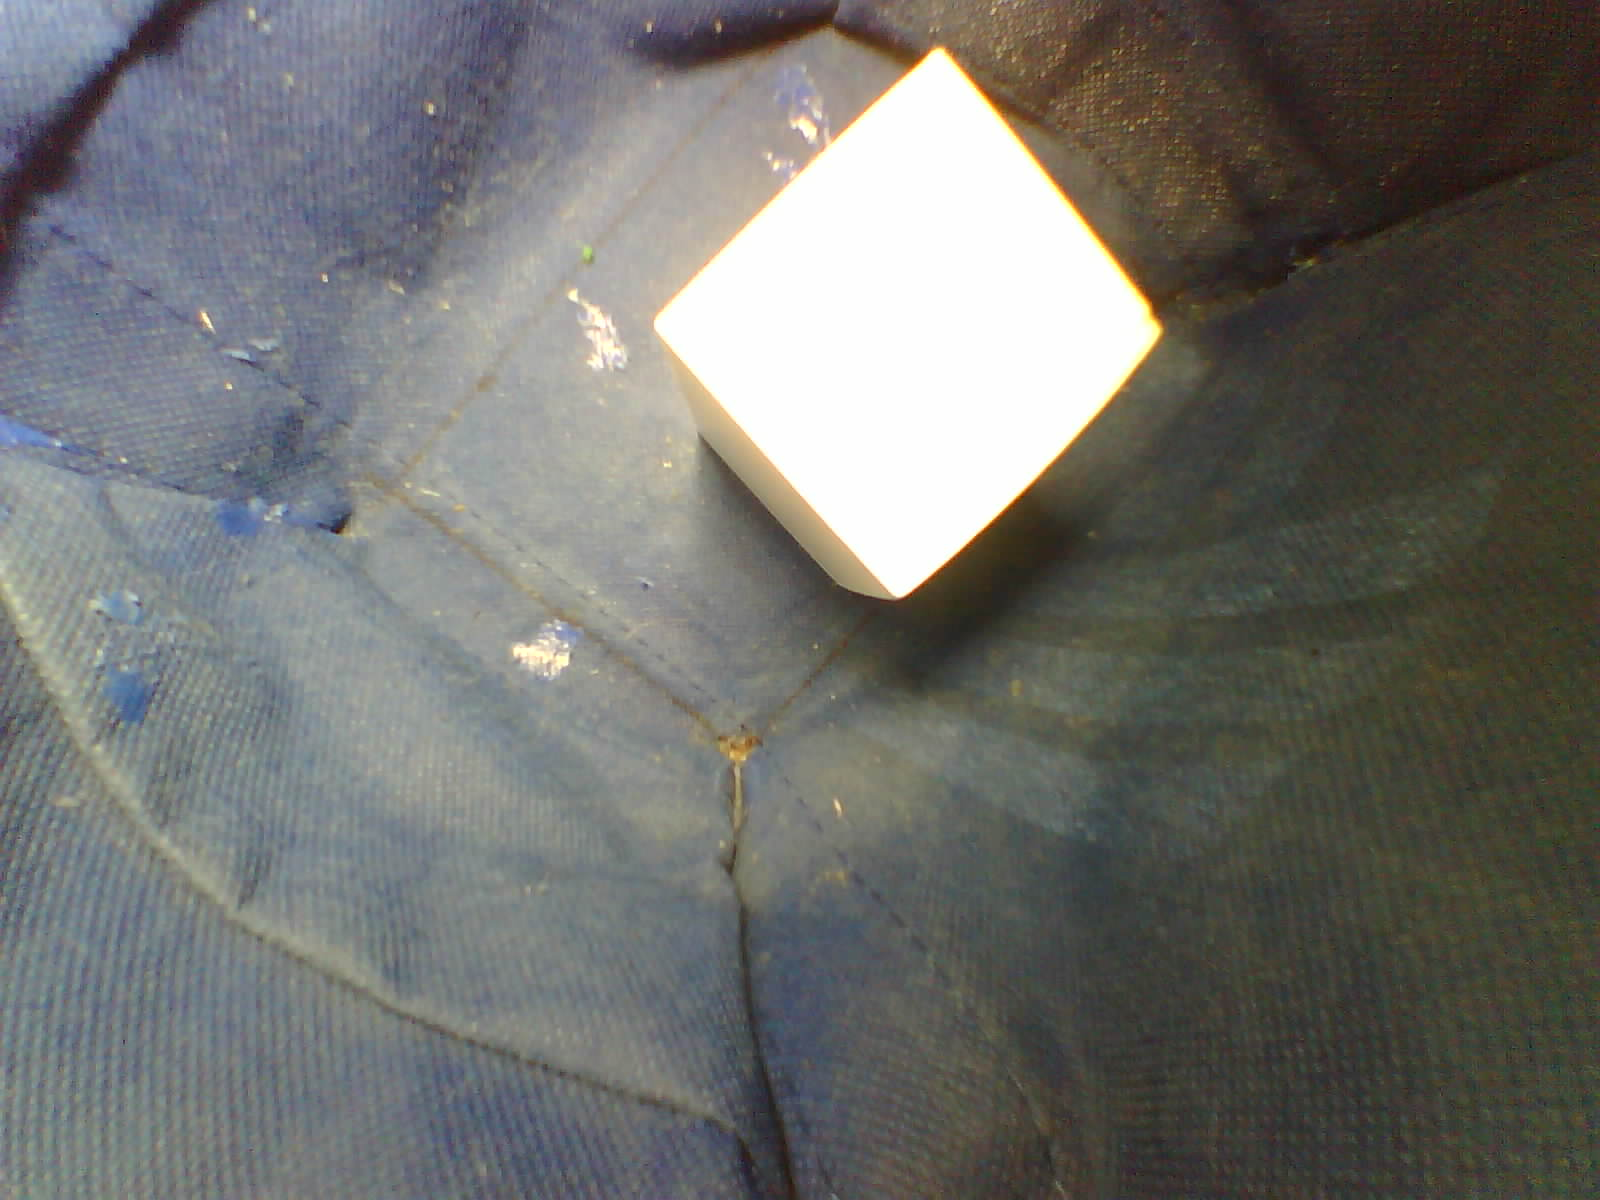cube-hard: (635, 40, 1173, 621)
